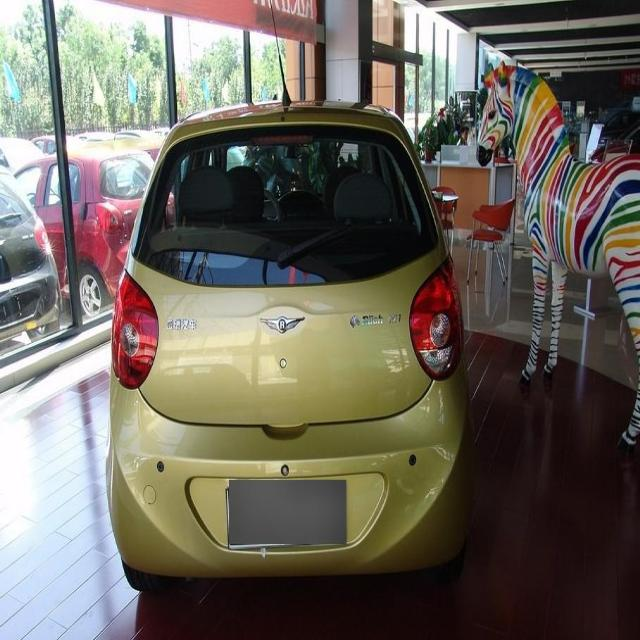back_glass: (135, 122, 437, 293)
back_left_side_light: (108, 262, 160, 392)
back_right_side_light: (407, 258, 463, 381)
rear_bumper: (104, 365, 467, 582)
